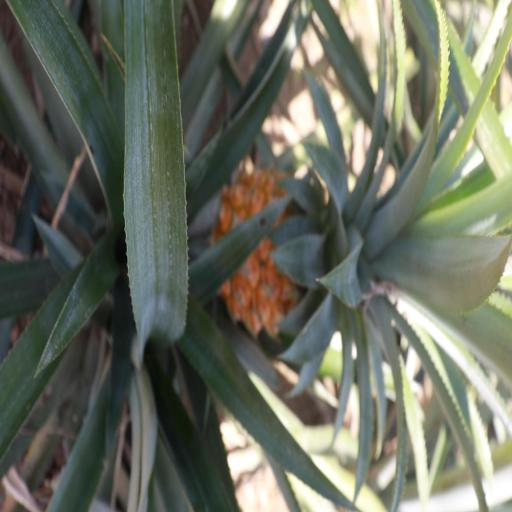Pineapple - v8 v1: (222, 158, 512, 350)
